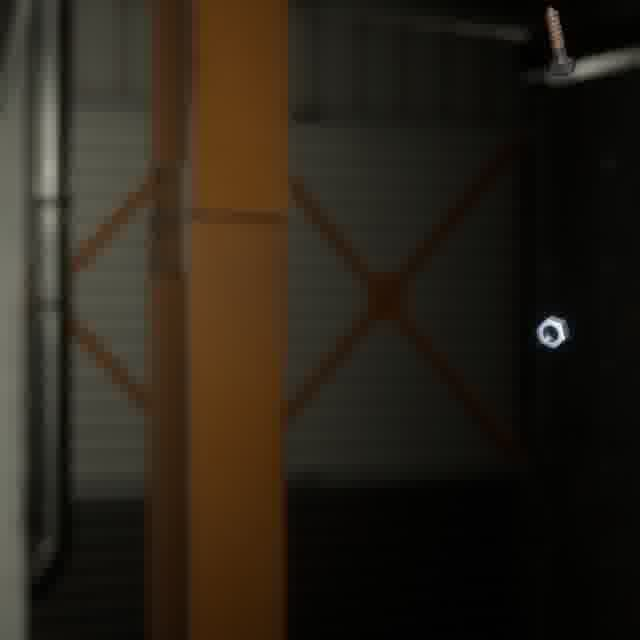bolt: (540, 3, 579, 79)
nut: (532, 311, 574, 353)
